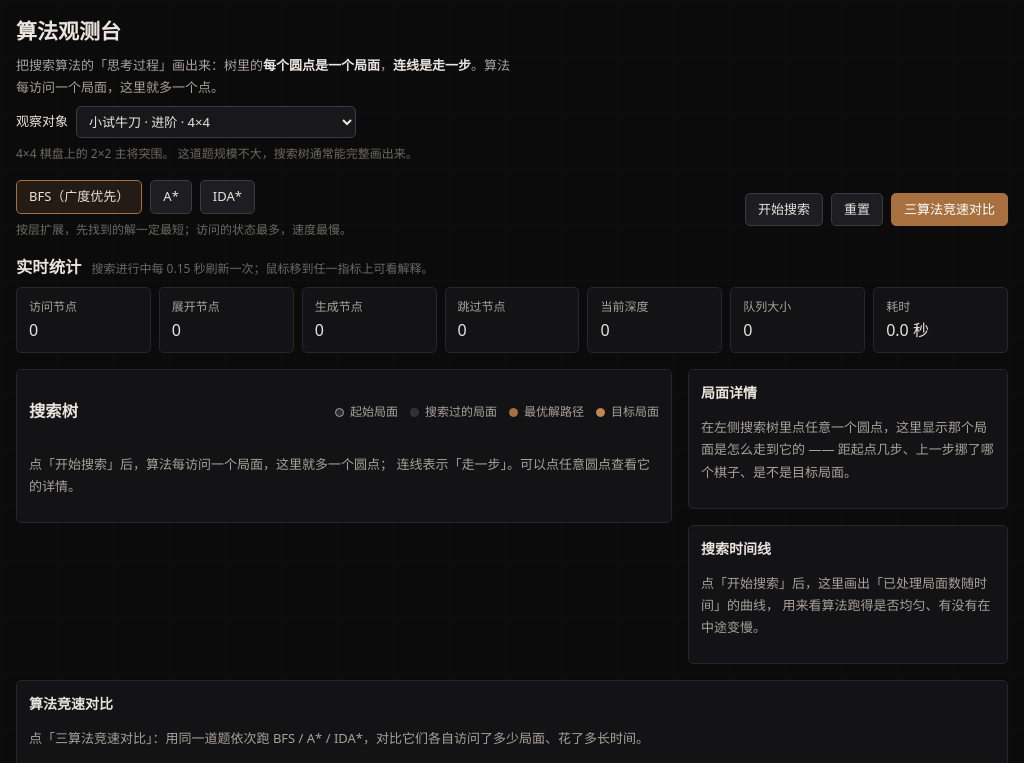
算法观测台 › 算法选择旁给出当前算法的特点说明，并随选择切换
Click the radio button labelled "A*" at (171, 197), box [150,180,192,214]
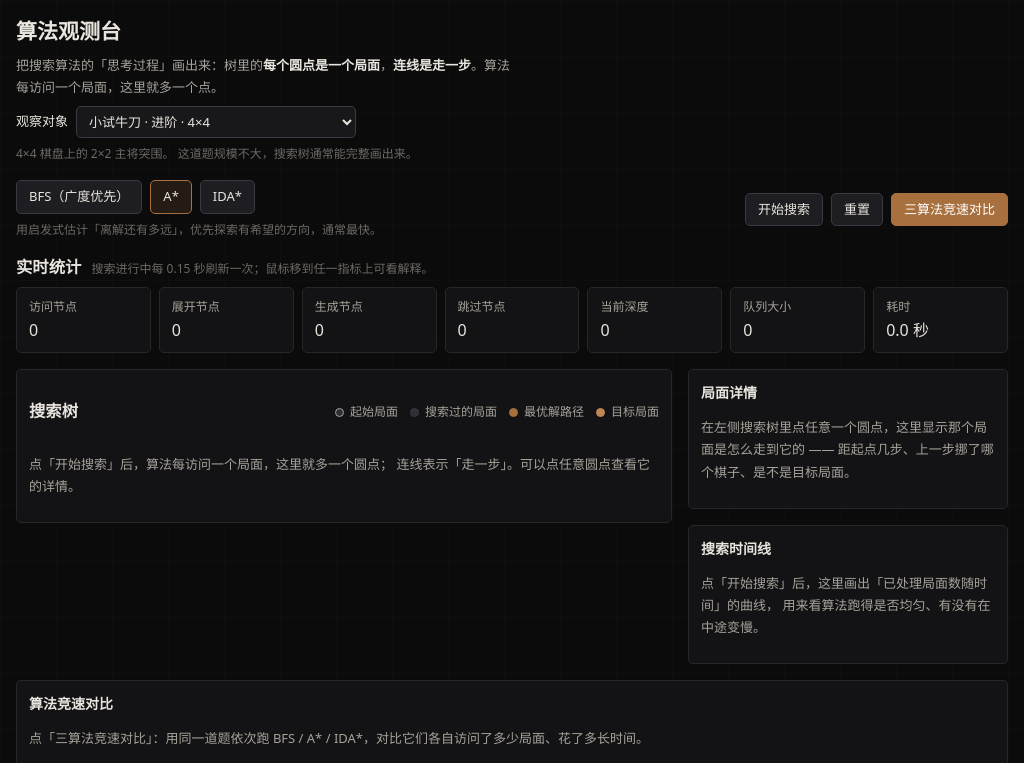
Now the text "用启发式估计「离解还有多远」，优先探索有希望的方向，通常最快。" is shown, box [16,220,382,239]
